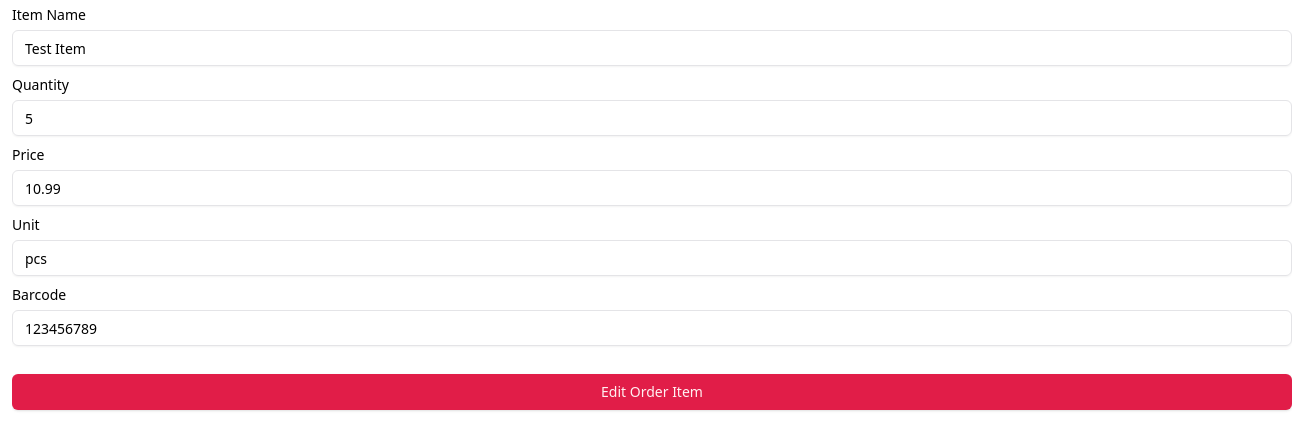
OrderItemEditForm › button is disabled during submission
Click the button "Edit Order Item".
click(652, 392)  # box [12,374,1292,410]
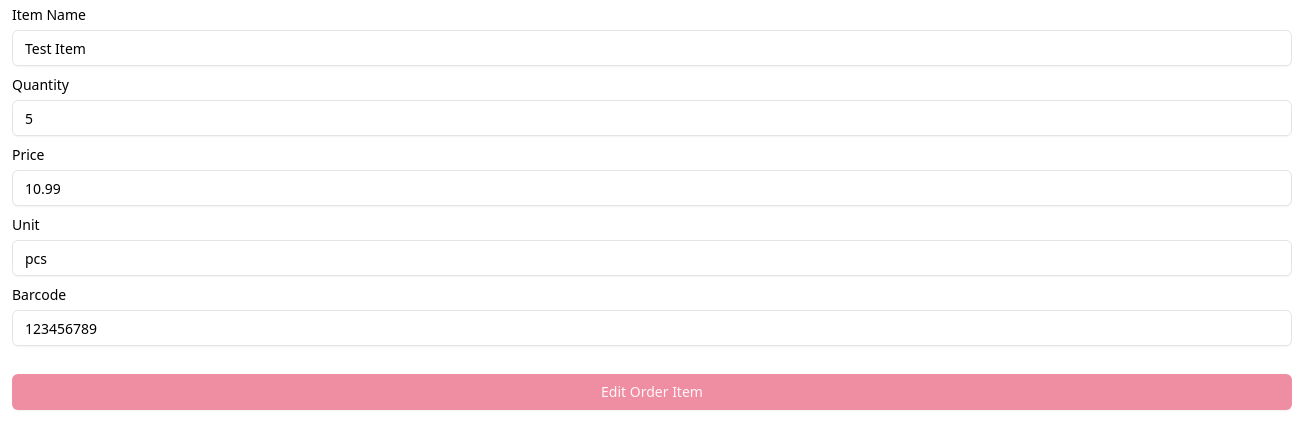
Result: the button "Edit Order Item" is disabled at [12,374,1292,410]
